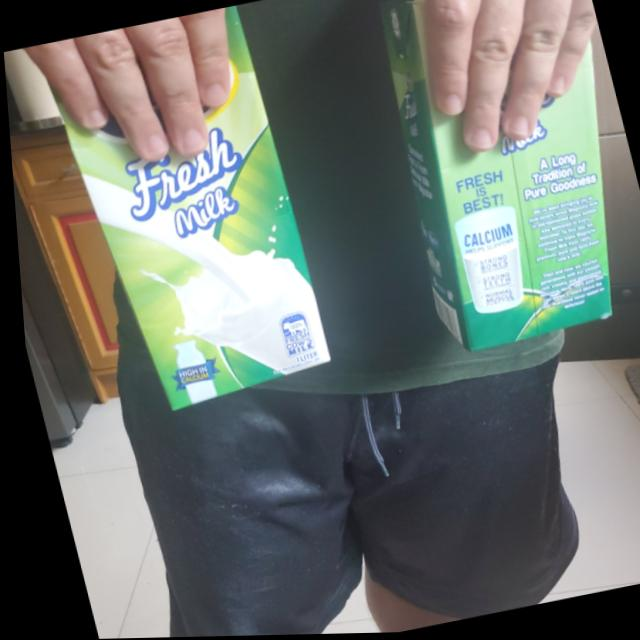milk: (27, 4, 336, 432), (360, 0, 640, 363)
